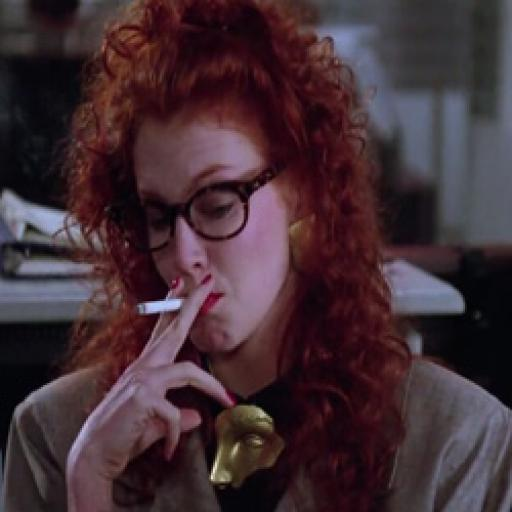terdeteksi merokok: (111, 188, 223, 352)
